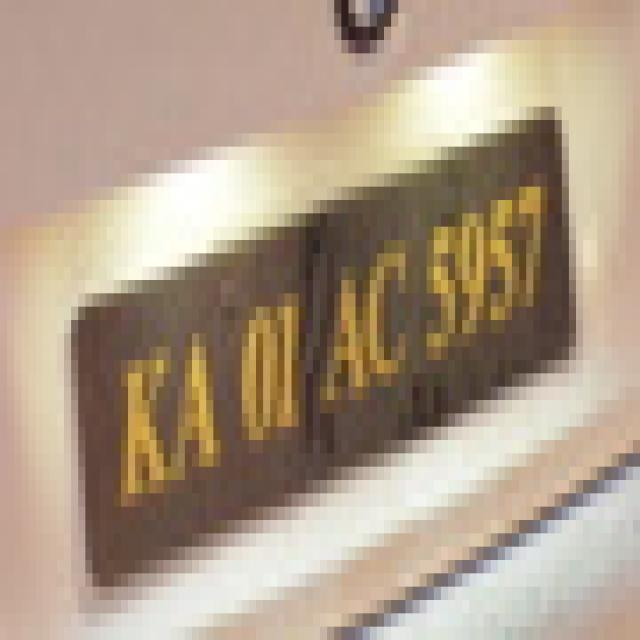0: (237, 301, 283, 456)
1: (276, 286, 306, 450)
5: (425, 208, 460, 358), (488, 184, 520, 344)
7: (515, 166, 551, 331)
9: (456, 198, 491, 360)
A: (169, 324, 223, 499), (316, 261, 368, 418)
C: (367, 240, 414, 396)
K: (116, 341, 172, 516)
